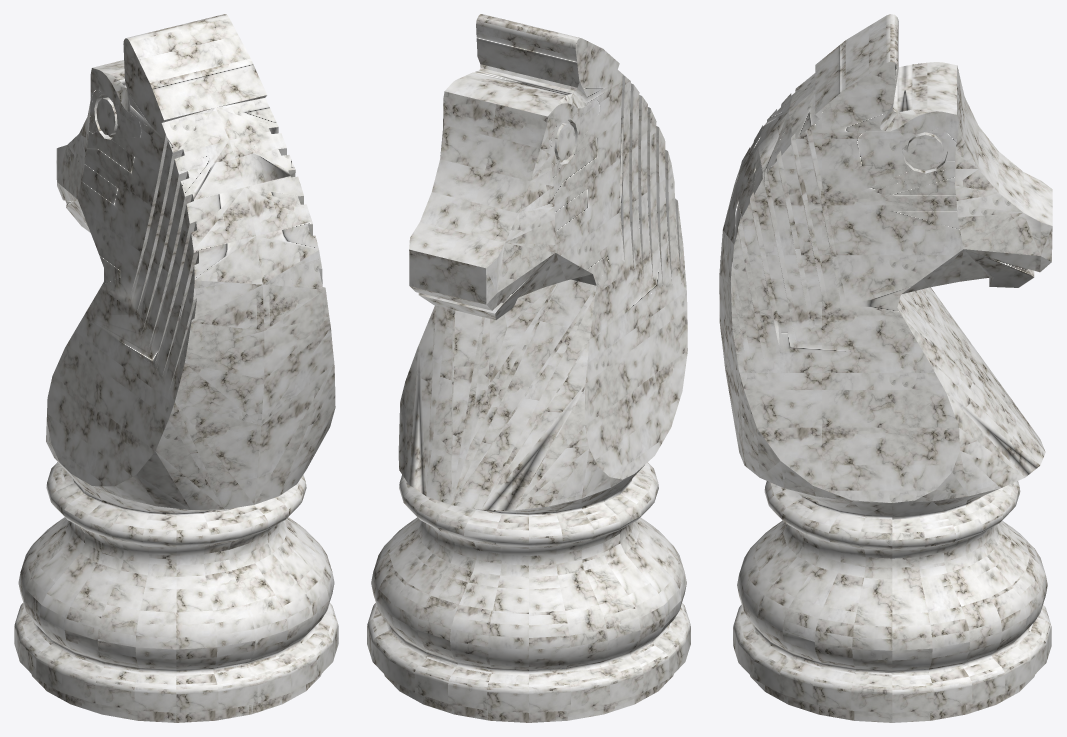
The model's file is knight.fbx.
3 renders of one model, left to right at view 1: azimuth 30°, elevation 25°; view 2: azimuth 150°, elevation 25°; view 3: azimuth 270°, elevation 25°, orthographic.
Visible parts, largest first — view 1: Model; view 2: Model; view 3: Model.
Part boxes in pixels (x1,y1,x2,y2): Model: (14,14,338,722); Model: (367,14,690,722); Model: (719,14,1052,722).
Size of the model in its own units: 12.26 by 26.45 by 12.82.
Materials: 1 (1 with a texture image).
